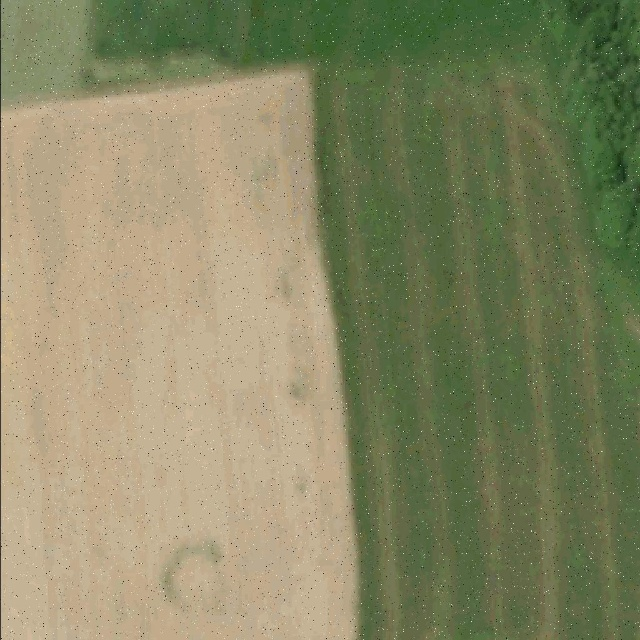vegetation: (540, 0, 640, 261)
